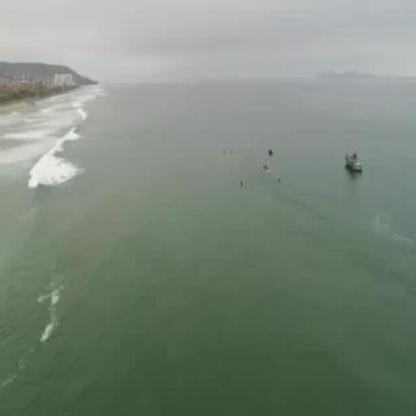Boat: (340, 149, 364, 180)
